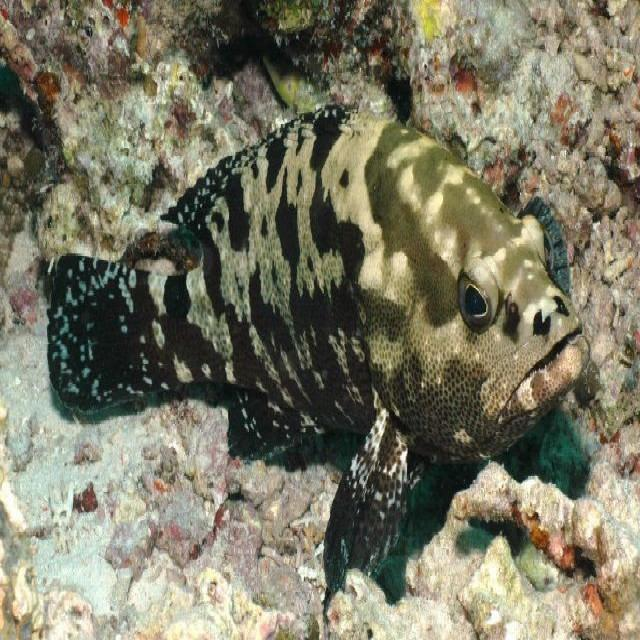grouper: (45, 102, 597, 568)
